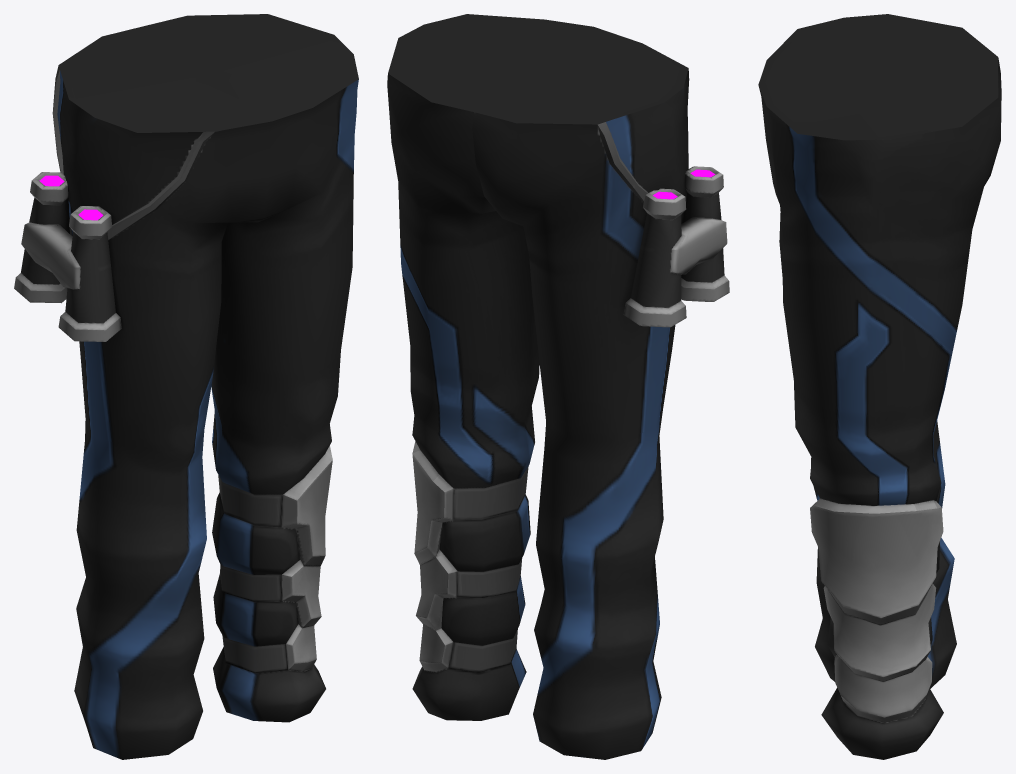
Rendered from M_Lower_body_trousers_of_the_meteorchaser.glb.
The picture shows the model from 3 angles, left to right: view 1: azimuth 30°, elevation 25°; view 2: azimuth 150°, elevation 25°; view 3: azimuth 270°, elevation 25°; orthographic projection. The views are drawn at different scales.
Parts seen in each view (by area): view 1: pPlane7; view 2: pPlane7; view 3: pPlane7.
Boxes of the visible parts, x1,y1,x2,y2 form: pPlane7: (14,14,358,759); pPlane7: (387,14,729,759); pPlane7: (758,14,1001,759).
Bounding box in the file's own units: 0.4192 × 0.875 × 0.3032.
Materials: 1 (1 with a texture image).
